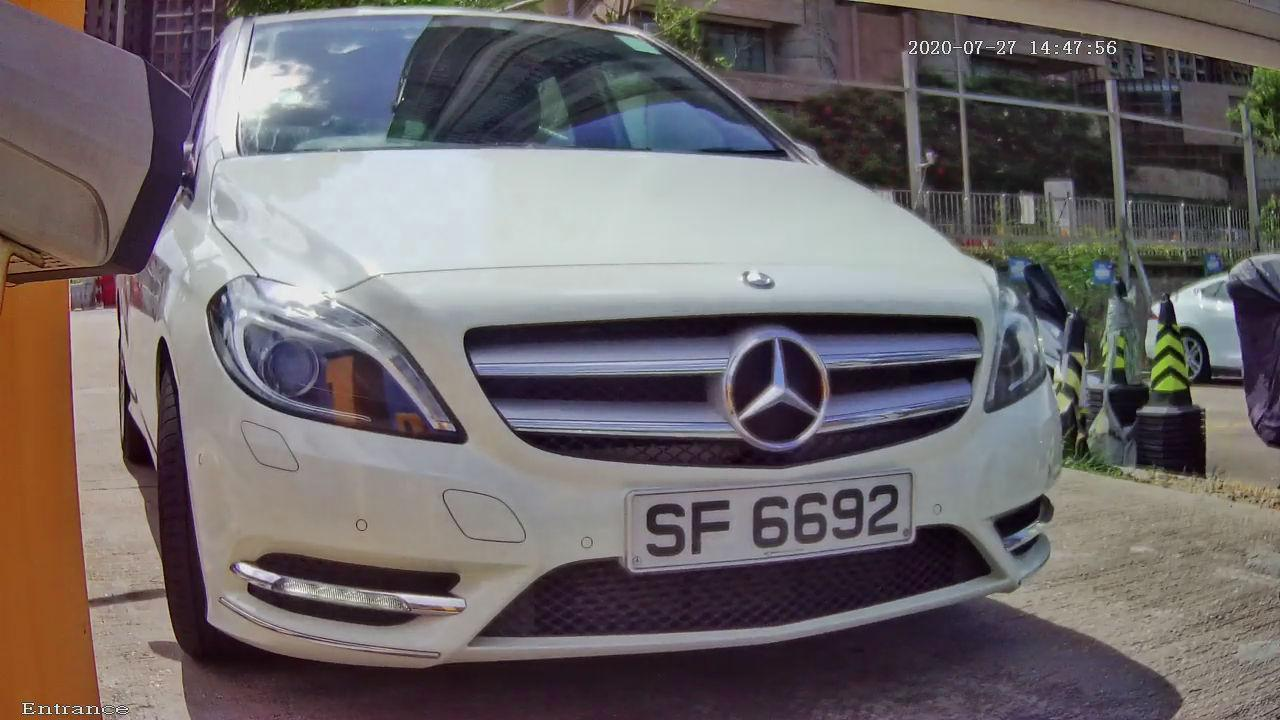privatecar: (126, 20, 1098, 682)
